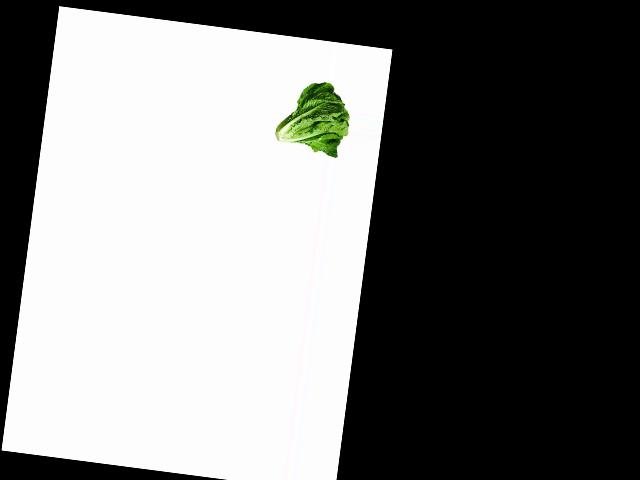lettuce: (269, 75, 354, 157)
